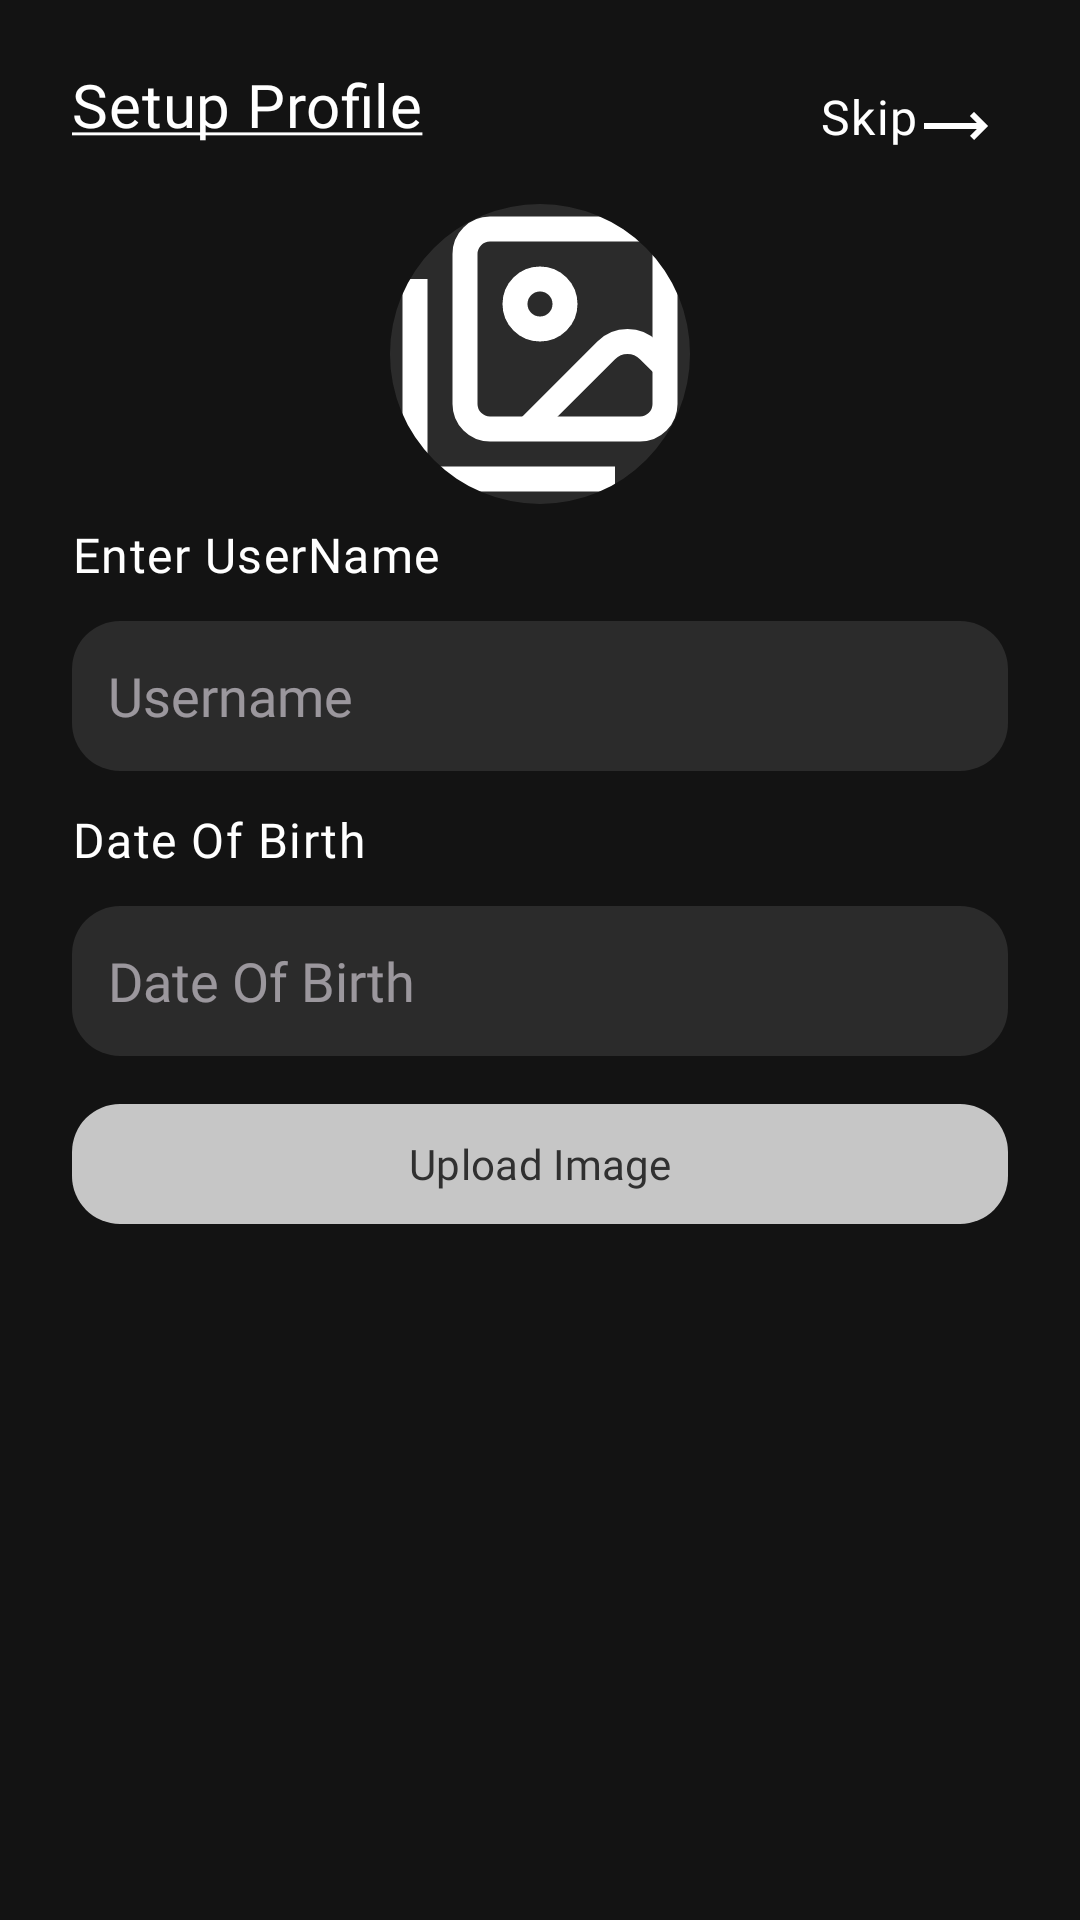

Locate icon controls on the screen. Image size 1080px x 1920px, boxes as (x1, y1, x2, y2).
images: (390, 204, 690, 504)
